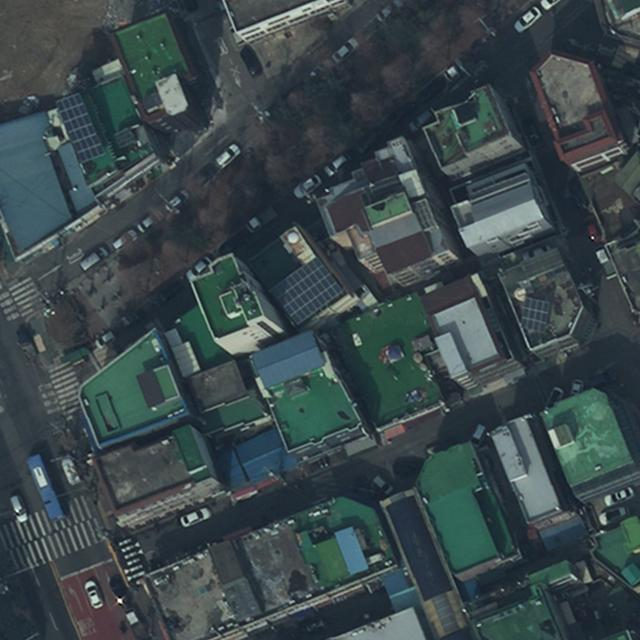panel: (266, 254, 344, 326), (54, 90, 104, 162), (518, 295, 551, 333)
